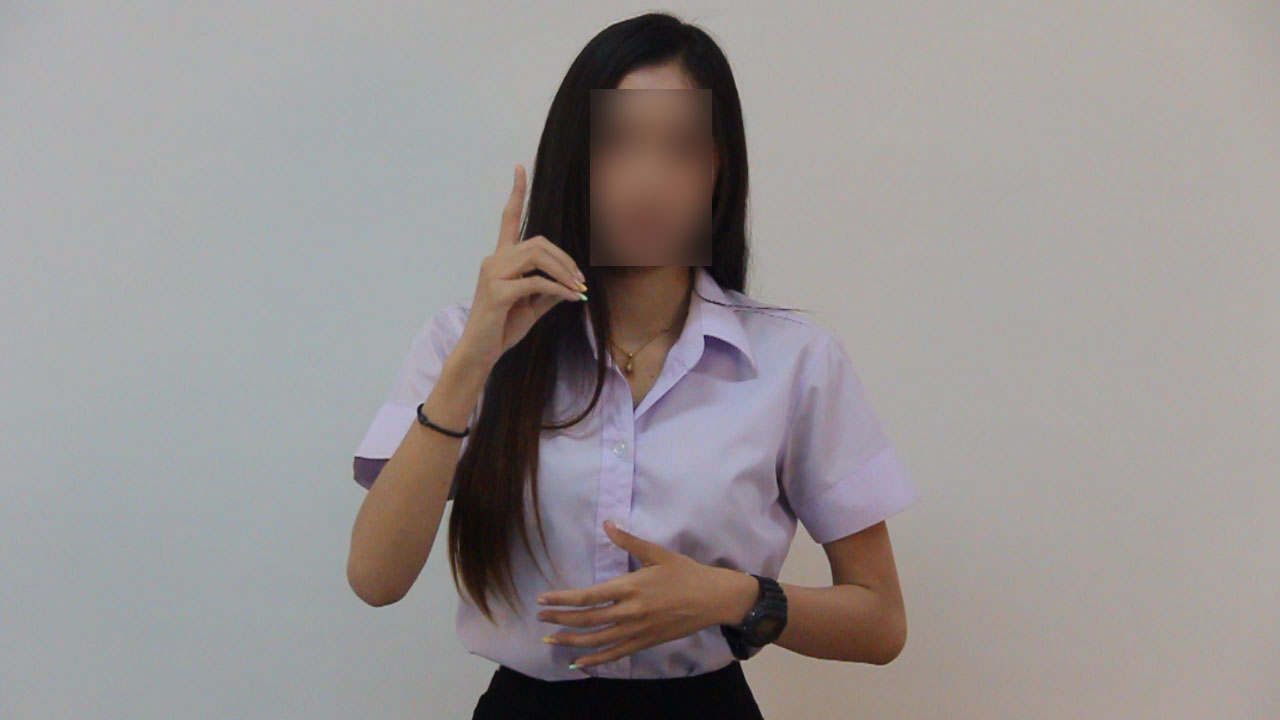dor: (451, 157, 592, 357)
